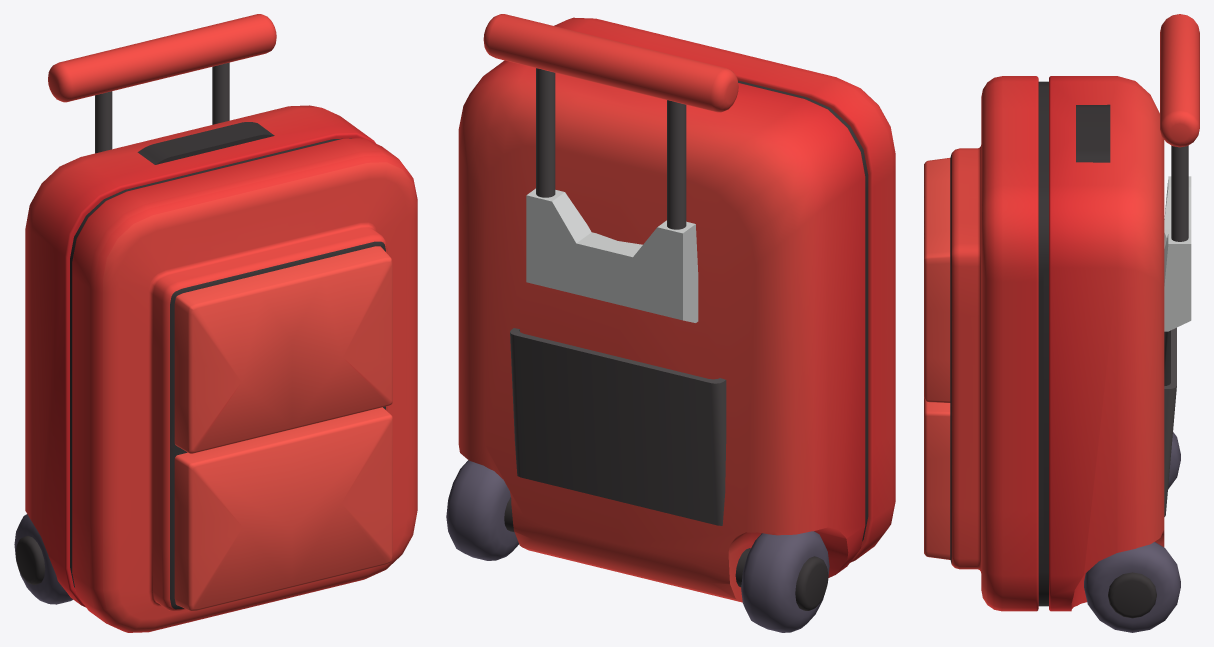
The model's file is Baggage_4_Red.fbx.
3 views of the same model, side by side, from view 1: azimuth 30°, elevation 25°; view 2: azimuth 150°, elevation 25°; view 3: azimuth 270°, elevation 25° (orthographic). The views are drawn at different scales.
Parts seen in each view (by area): view 1: Baggage_4_Red; view 2: Baggage_4_Red; view 3: Baggage_4_Red.
Part boxes in pixels (x1=…): Baggage_4_Red: x1=14, y1=14, x2=417, y2=632; Baggage_4_Red: x1=446, y1=14, x2=895, y2=632; Baggage_4_Red: x1=924, y1=14, x2=1199, y2=632.
Bounding box in the file's own units: 62.48 × 93.72 × 46.68.
